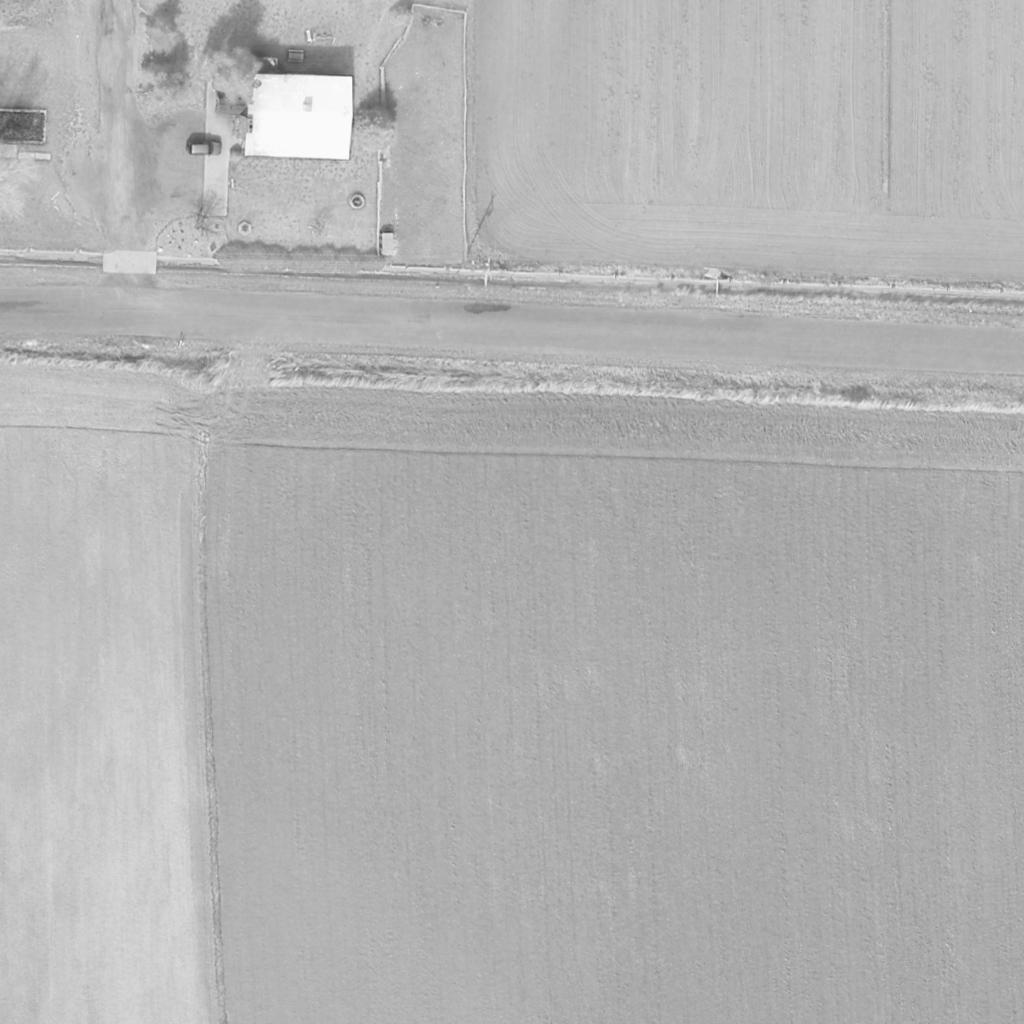vehicle: (184, 141, 222, 155)
